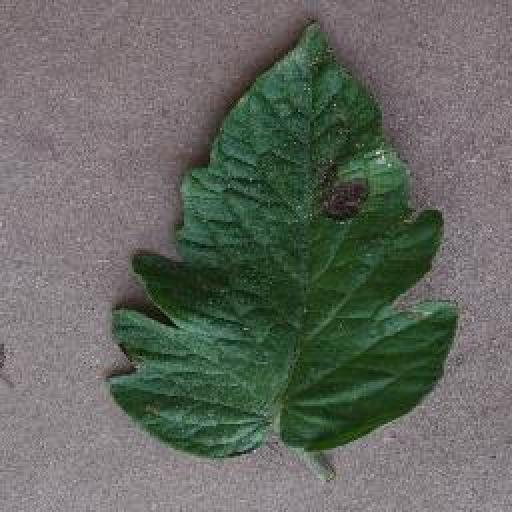Early Blight: (114, 15, 464, 457)
